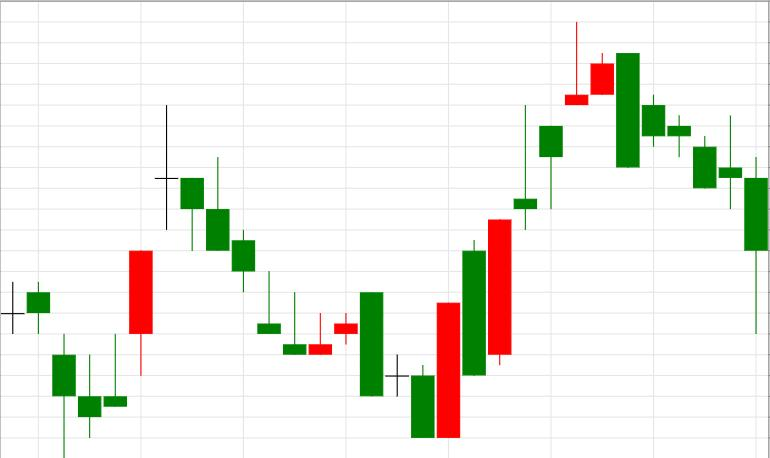bearish_engulfing_fall: (488, 21, 640, 366)
bullish_engulfing_rise: (155, 104, 461, 439)
